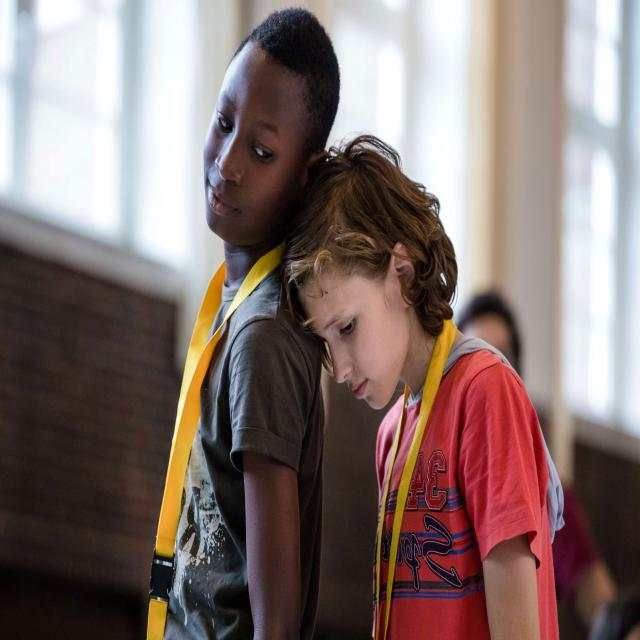child: (288, 140, 565, 640), (151, 9, 339, 640)
